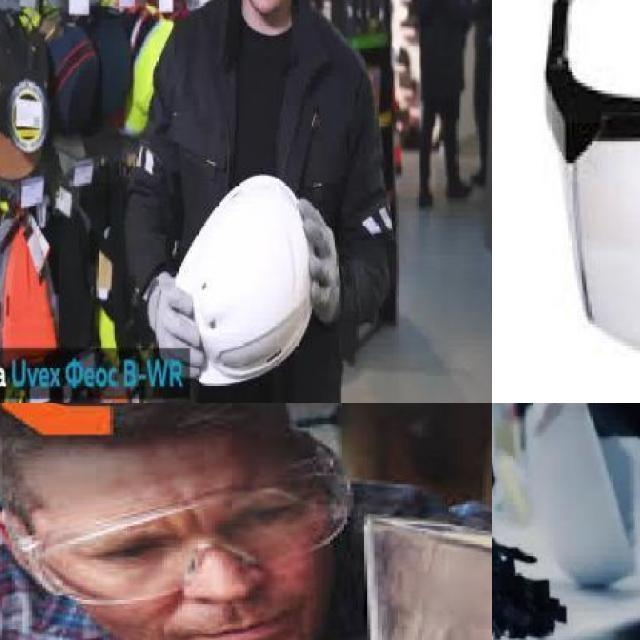apron: (146, 268, 206, 385), (299, 194, 342, 325)
